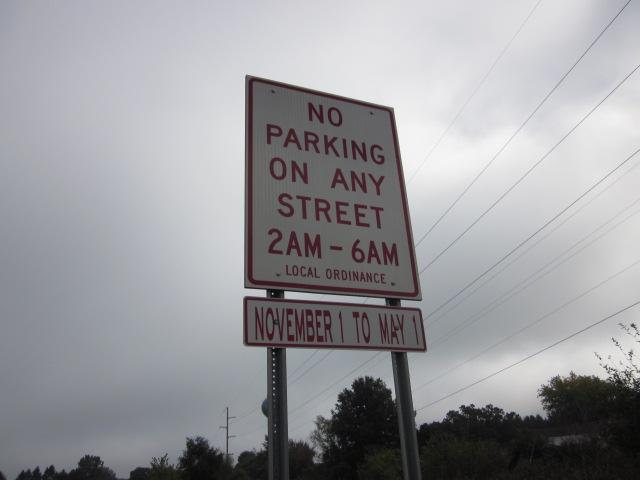regulatory: (239, 72, 425, 303)
